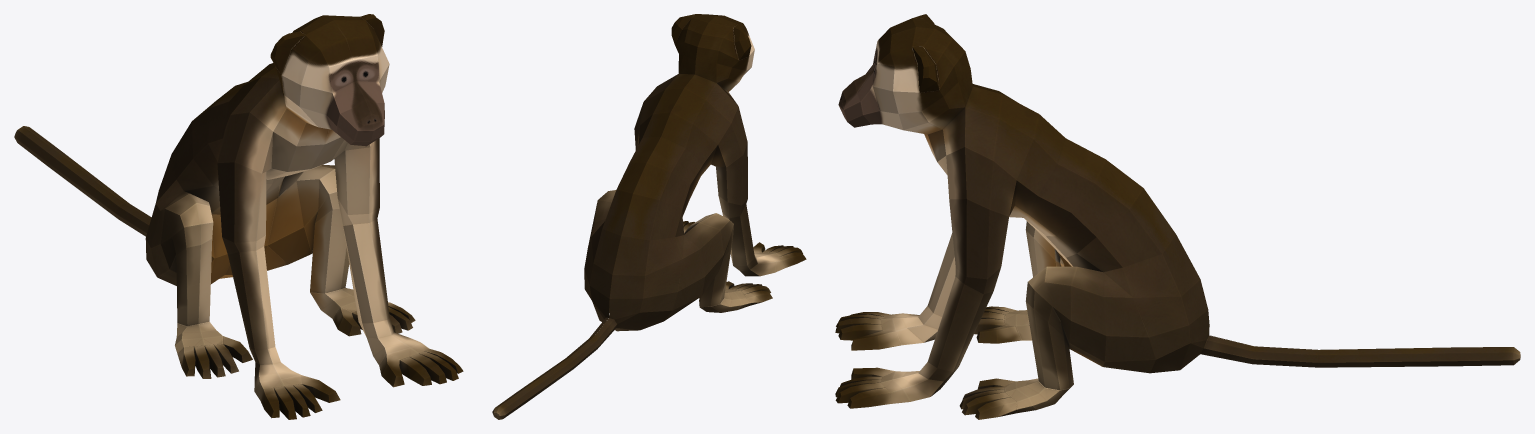
The model's file is macaco.glb.
3 renders of one model, left to right at view 1: azimuth 30°, elevation 25°; view 2: azimuth 150°, elevation 25°; view 3: azimuth 270°, elevation 25°, orthographic. The views are drawn at different scales.
Parts seen in each view (by area): view 1: Monkey_mesh; view 2: Monkey_mesh; view 3: Monkey_mesh.
Part boxes in pixels (box(x1,y1,x2,y2)): Monkey_mesh: box(14, 14, 463, 419); Monkey_mesh: box(492, 14, 806, 419); Monkey_mesh: box(835, 14, 1520, 419).
Bounding box in the file's own units: 3.06 × 4.49 × 8.2.
1 material, 1 textured.
